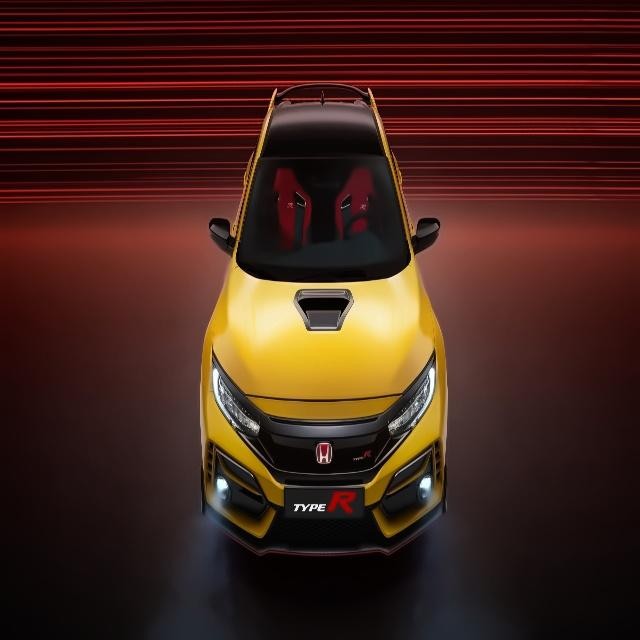Car hood: (204, 260, 459, 428)
Front bumper: (178, 397, 475, 570)
Headlight - -L-: (386, 359, 439, 441)
Headlight - -R-: (202, 365, 264, 443)
Side mirror - -L-: (406, 214, 450, 258)
Side mirror - -R-: (200, 213, 240, 263)
